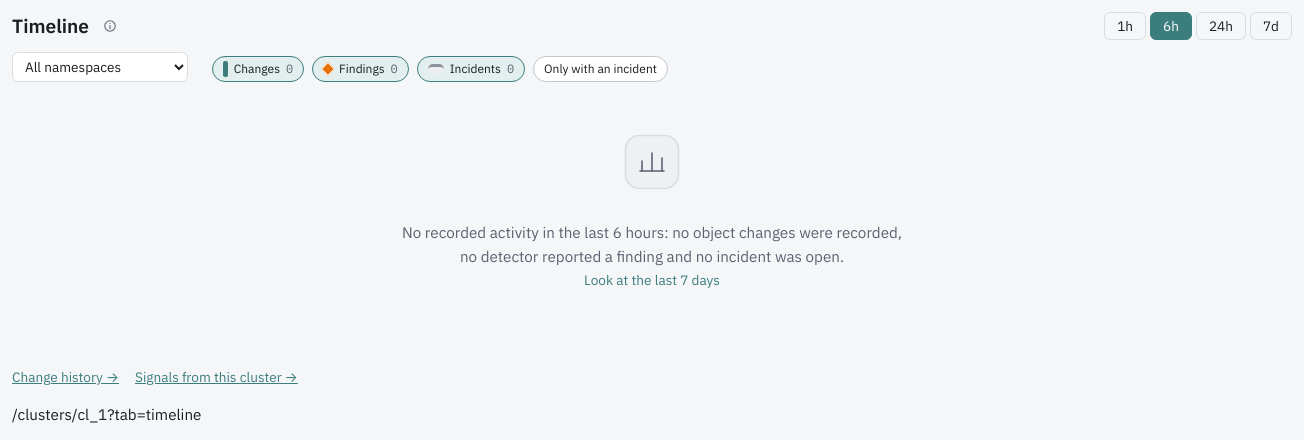
ClusterTimeline › says nothing was recorded, and distinguishes a filter that matched nothing
This screenshot has width=1304, height=440.
Expected: the text "No recorded activity in the last 6 hours" is shown, [396, 221, 908, 292]
Click the button "Look at the last 7 days": (652, 280) [584, 271, 720, 289]
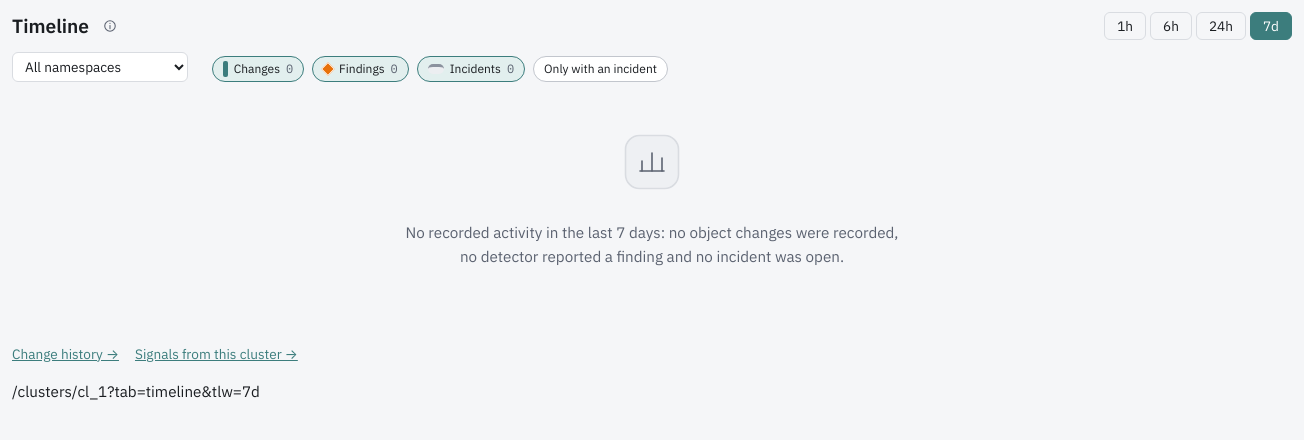
Result: the text with test id "where" shows "tlw=7d" at [12, 381, 260, 401]
